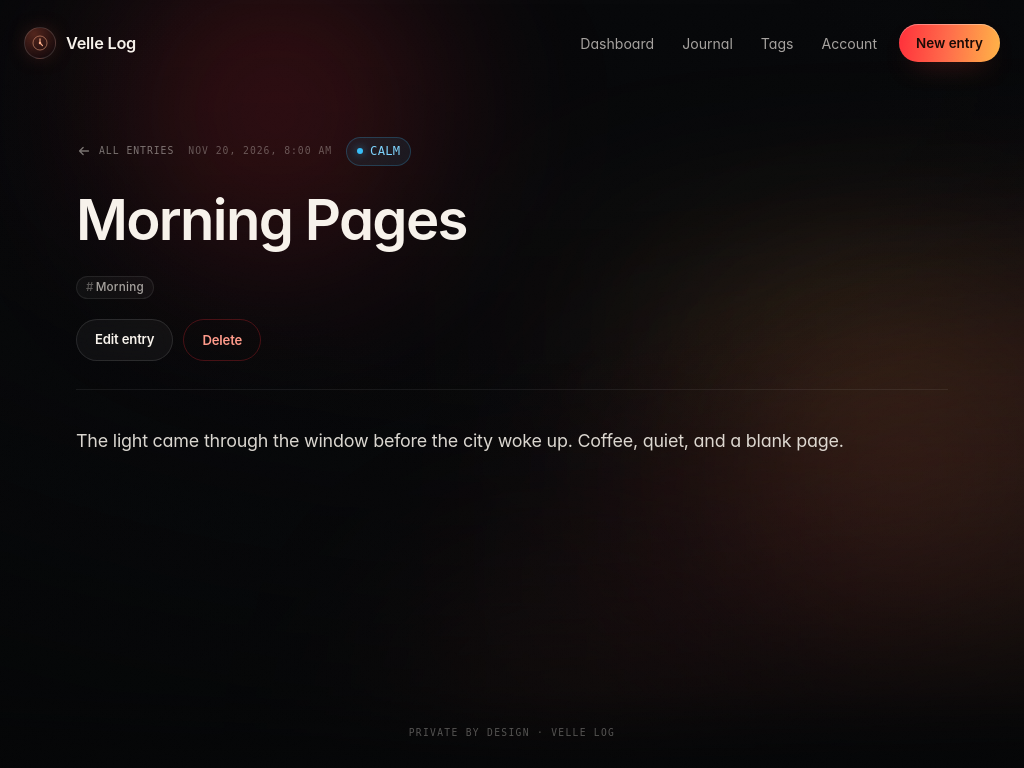
Scenario: journal › confirms before deleting and returns to the journal
Expected: the heading "Morning Pages" is shown, [76,185,467,254]
Click the button "Delete" at (222, 340), box [183,319,261,361]
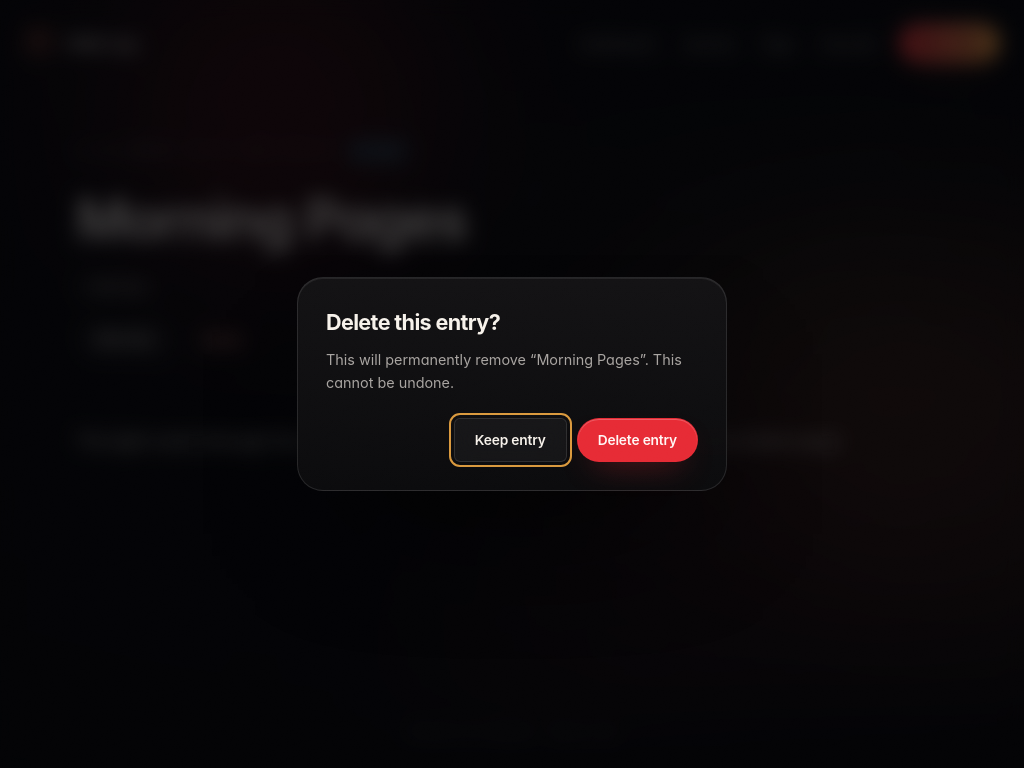
Result: the text "permanently remove" is shown at [326,351,536,368]
Click the button "Keep entry" at (510, 440), box [454,418,567,462]
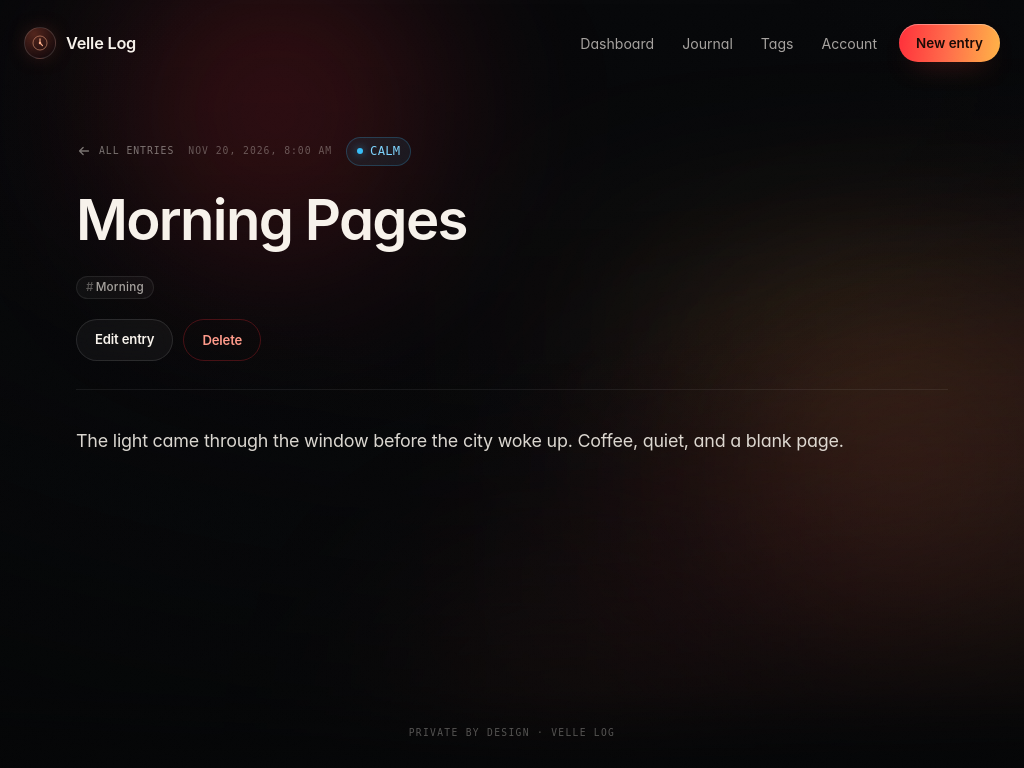
Result: the dialog is gone
Click the button "Delete" at (222, 340), box [183,319,261,361]
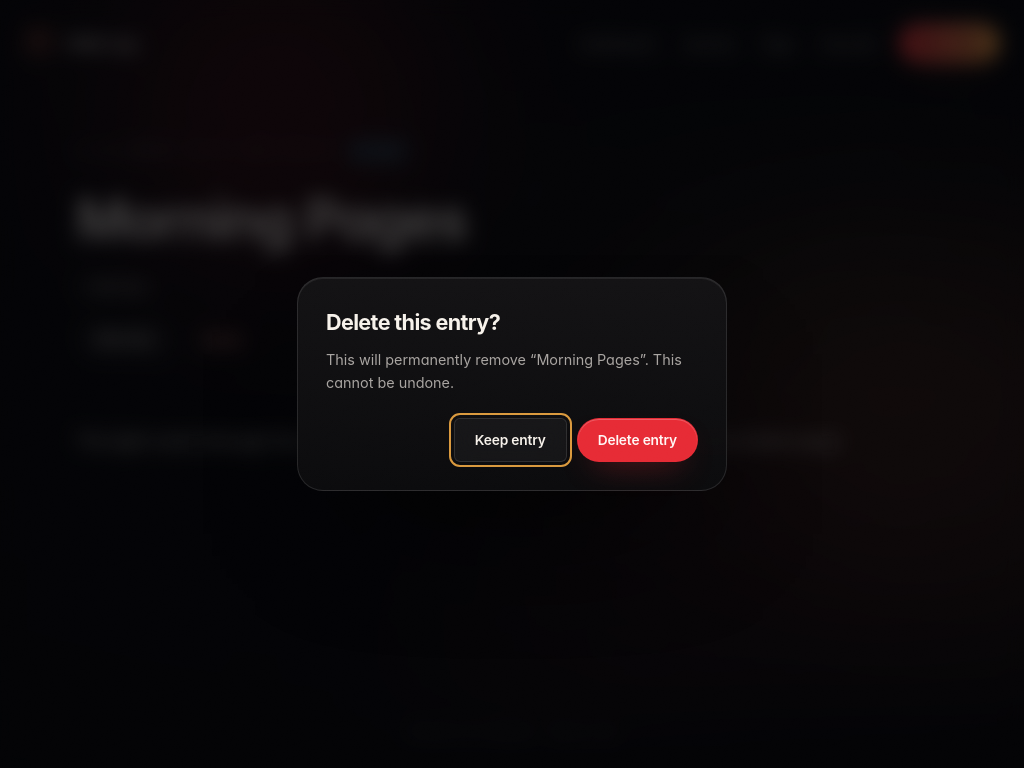
Click the button "Delete entry" at (637, 440), box [577,418,698,462]
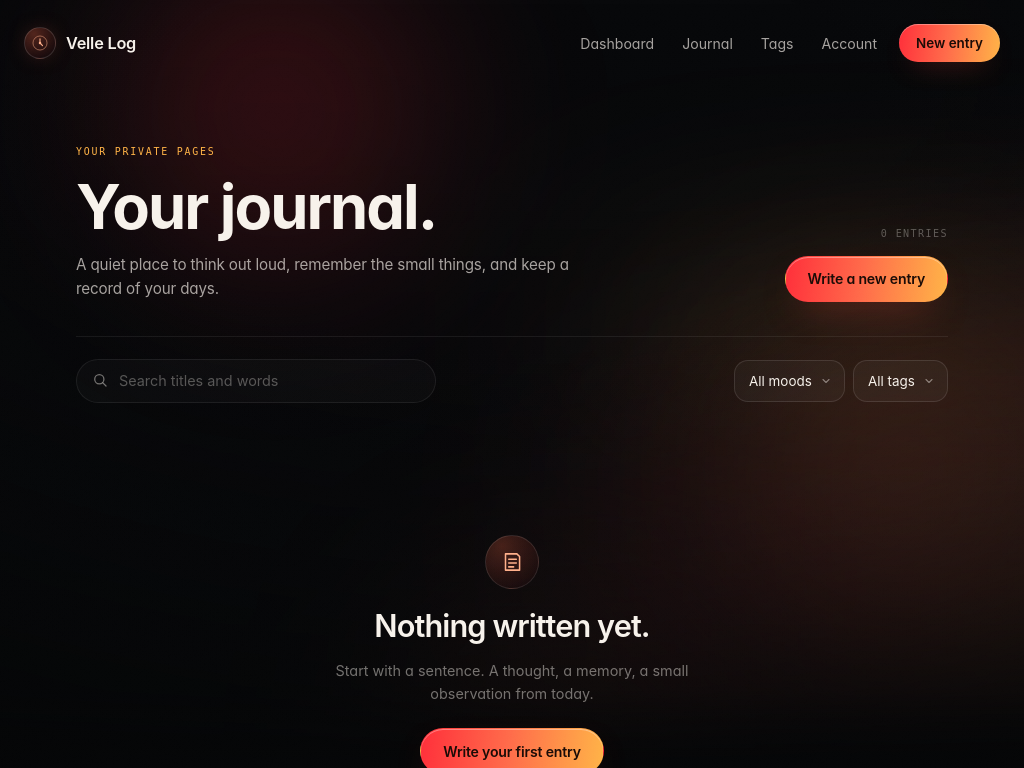
Result: the heading "Nothing written yet." is shown at [374,602,650,649]
